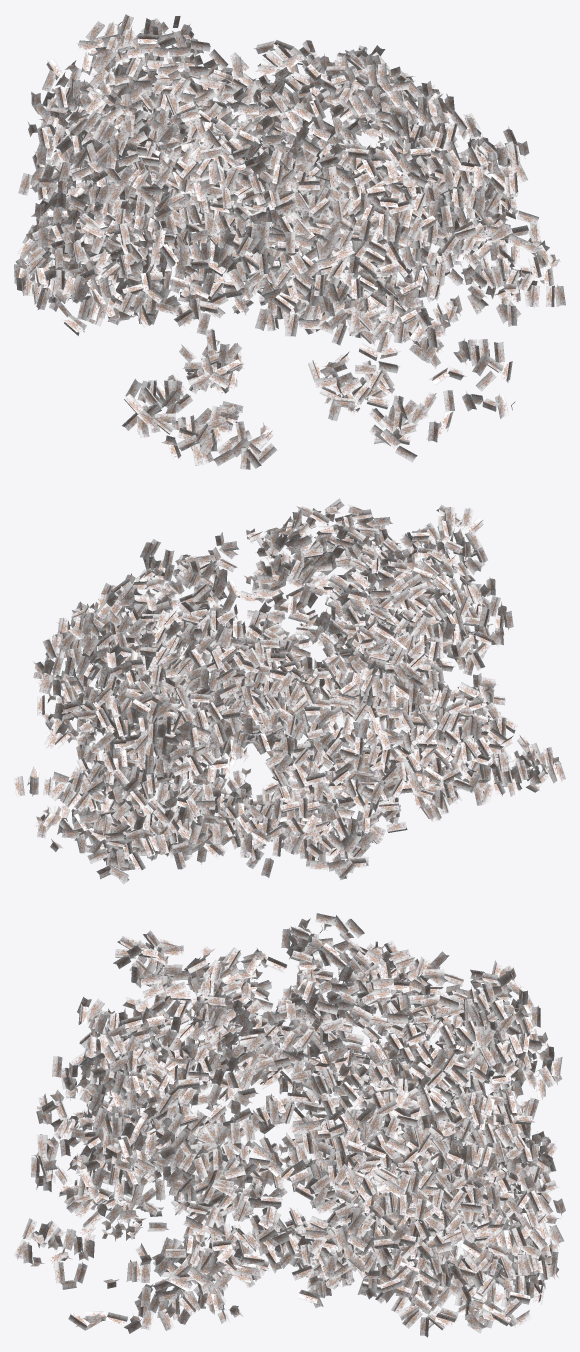
File: field_spring_cherry_leaf.fbx
The picture shows the model from 3 angles, top to bottom: view 1: azimuth 30°, elevation 25°; view 2: azimuth 150°, elevation 25°; view 3: azimuth 270°, elevation 25°; orthographic projection. The views are drawn at different scales.
Parts seen in each view (by area): view 1: field_spring_cherry_leaf; view 2: field_spring_cherry_leaf; view 3: field_spring_cherry_leaf.
Part boxes in pixels (left/top/right/bottom): field_spring_cherry_leaf: left=14, top=14, right=565, bottom=469; field_spring_cherry_leaf: left=14, top=498, right=565, bottom=884; field_spring_cherry_leaf: left=14, top=913, right=565, bottom=1337.
Size of the model in its own units: 5870 by 3642 by 6050.
1 material, 1 textured.
